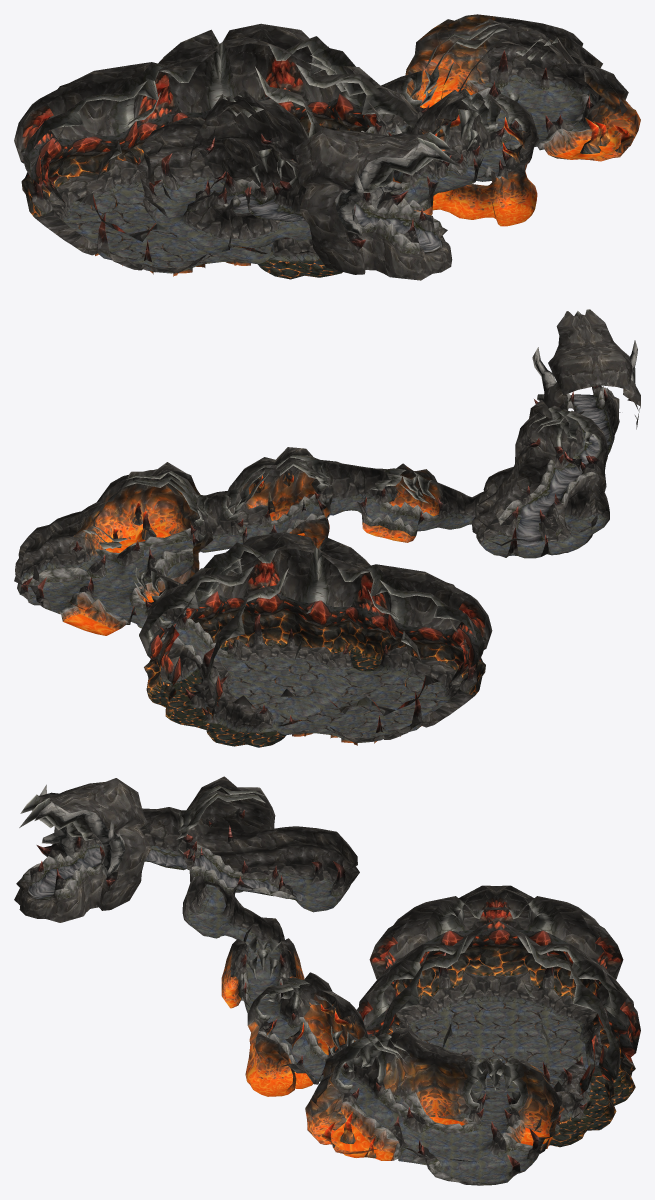
Rendered from lifesizeLAIR.glb.
3 views of the same model, one above another, from view 1: azimuth 30°, elevation 25°; view 2: azimuth 150°, elevation 25°; view 3: azimuth 270°, elevation 25° (orthographic). The views are drawn at different scales.
Visible parts, largest first — view 1: kl_onyxiaslair_b_DragonEntrance5, kl_onyxiaslair_b_DragonEntrance2, kl_onyxiaslair_b_DragonEntrance0, kl_onyxiaslair_b_RallyArea4, kl_onyxiaslair_b_DragonEntrance3, kl_onyxiaslair_b_Lair8, kl_onyxiaslair_b_RallyArea6, kl_onyxiaslair_b_Lair9, kl_onyxiaslair_b_RallyArea10, kl_onyxiaslair_b_RallyArea5, kl_onyxiaslair_b_DragonEntrance4, kl_onyxiaslair_b_Lair7 (+6 smaller); view 2: kl_onyxiaslair_b_DragonEntrance5, kl_onyxiaslair_b_DragonEntrance2, kl_onyxiaslair_b_RallyArea4, kl_onyxiaslair_b_DragonEntrance0, kl_onyxiaslair_b_DragonEntrance3, kl_onyxiaslair_b_Lair7, kl_onyxiaslair_b_Lair8, kl_onyxiaslair_b_RallyArea5, kl_onyxiaslair_b_RallyArea6, kl_onyxiaslair_b_DragonEntrance1, kl_onyxiaslair_b_Lair6, kl_onyxiaslair_b_RallyArea10 (+6 smaller); view 3: kl_onyxiaslair_b_DragonEntrance5, kl_onyxiaslair_b_DragonEntrance2, kl_onyxiaslair_b_RallyArea4, kl_onyxiaslair_b_DragonEntrance0, kl_onyxiaslair_b_DragonEntrance3, kl_onyxiaslair_b_Lair7, kl_onyxiaslair_b_RallyArea10, kl_onyxiaslair_b_RallyArea11, kl_onyxiaslair_b_Lair8, kl_onyxiaslair_b_Lair9, kl_onyxiaslair_b_RallyArea5, kl_onyxiaslair_b_RallyArea6 (+6 smaller).
Part boxes in pixels (box(x1,y1,x2,y2)): kl_onyxiaslair_b_DragonEntrance5: box(14, 16, 628, 280); kl_onyxiaslair_b_DragonEntrance2: box(23, 23, 599, 253); kl_onyxiaslair_b_DragonEntrance0: box(21, 53, 602, 273); kl_onyxiaslair_b_RallyArea4: box(66, 80, 584, 273); kl_onyxiaslair_b_DragonEntrance3: box(32, 50, 593, 271); kl_onyxiaslair_b_Lair8: box(21, 93, 376, 234); kl_onyxiaslair_b_RallyArea6: box(393, 58, 638, 223); kl_onyxiaslair_b_Lair9: box(20, 53, 393, 240); kl_onyxiaslair_b_RallyArea10: box(68, 55, 615, 276); kl_onyxiaslair_b_RallyArea5: box(409, 33, 640, 193); kl_onyxiaslair_b_DragonEntrance4: box(335, 124, 444, 253); kl_onyxiaslair_b_Lair7: box(21, 118, 366, 272); kl_onyxiaslair_b_DragonEntrance5: box(14, 309, 640, 668); kl_onyxiaslair_b_DragonEntrance2: box(20, 309, 614, 695); kl_onyxiaslair_b_RallyArea4: box(20, 498, 603, 742); kl_onyxiaslair_b_DragonEntrance0: box(17, 396, 619, 742); kl_onyxiaslair_b_DragonEntrance3: box(20, 385, 632, 740); kl_onyxiaslair_b_Lair7: box(144, 612, 485, 741); kl_onyxiaslair_b_Lair8: box(145, 591, 485, 709); kl_onyxiaslair_b_RallyArea5: box(65, 466, 441, 609); kl_onyxiaslair_b_RallyArea6: box(95, 492, 439, 548); kl_onyxiaslair_b_DragonEntrance1: box(516, 394, 611, 545); kl_onyxiaslair_b_Lair6: box(151, 645, 380, 747); kl_onyxiaslair_b_RallyArea10: box(47, 511, 445, 745); kl_onyxiaslair_b_DragonEntrance5: box(14, 776, 633, 1162); kl_onyxiaslair_b_DragonEntrance2: box(19, 785, 627, 1185); kl_onyxiaslair_b_RallyArea4: box(189, 875, 588, 1185); kl_onyxiaslair_b_DragonEntrance0: box(81, 820, 630, 1185); kl_onyxiaslair_b_DragonEntrance3: box(30, 808, 601, 1176); kl_onyxiaslair_b_Lair7: box(386, 949, 635, 1147); kl_onyxiaslair_b_RallyArea10: box(312, 1002, 583, 1153); kl_onyxiaslair_b_RallyArea11: box(309, 1050, 561, 1151); kl_onyxiaslair_b_Lair8: box(365, 929, 635, 1103); kl_onyxiaslair_b_Lair9: box(357, 896, 640, 1088); kl_onyxiaslair_b_RallyArea5: box(222, 944, 564, 1119); kl_onyxiaslair_b_RallyArea6: box(221, 969, 553, 1157).
Size of the model in its own units: 282 by 146 by 313.
18 materials, 18 textured.
